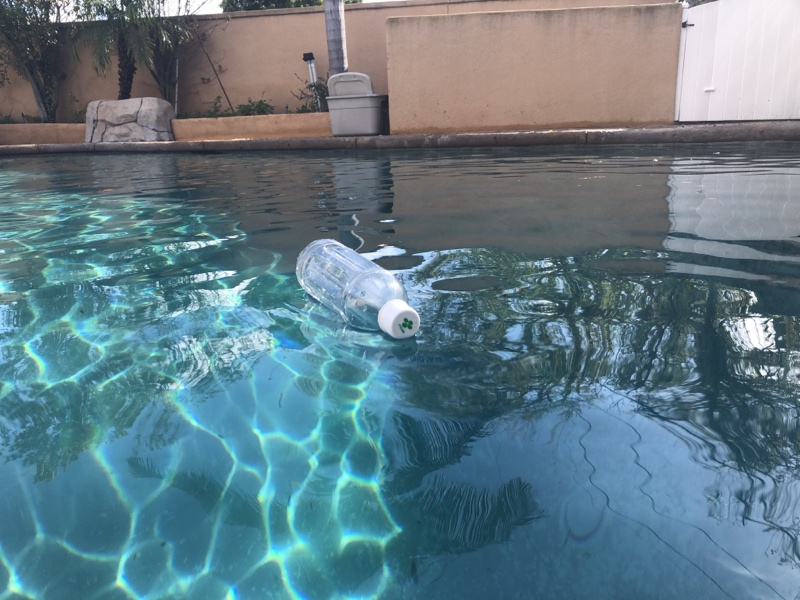Plastic Bottle: (291, 237, 423, 346)
